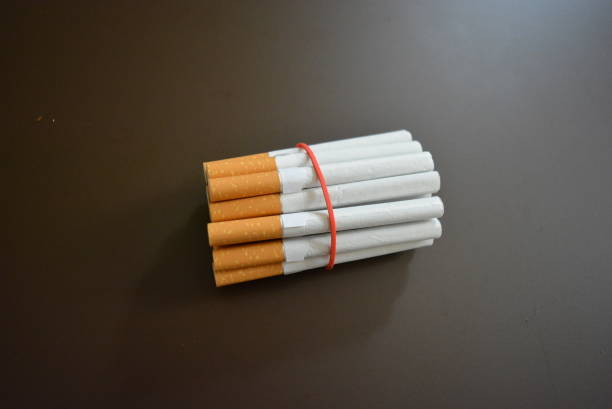cigarette: (211, 219, 443, 273), (206, 196, 445, 248), (201, 127, 412, 185), (207, 170, 442, 222), (206, 150, 436, 202), (213, 237, 435, 289), (204, 140, 424, 181)
